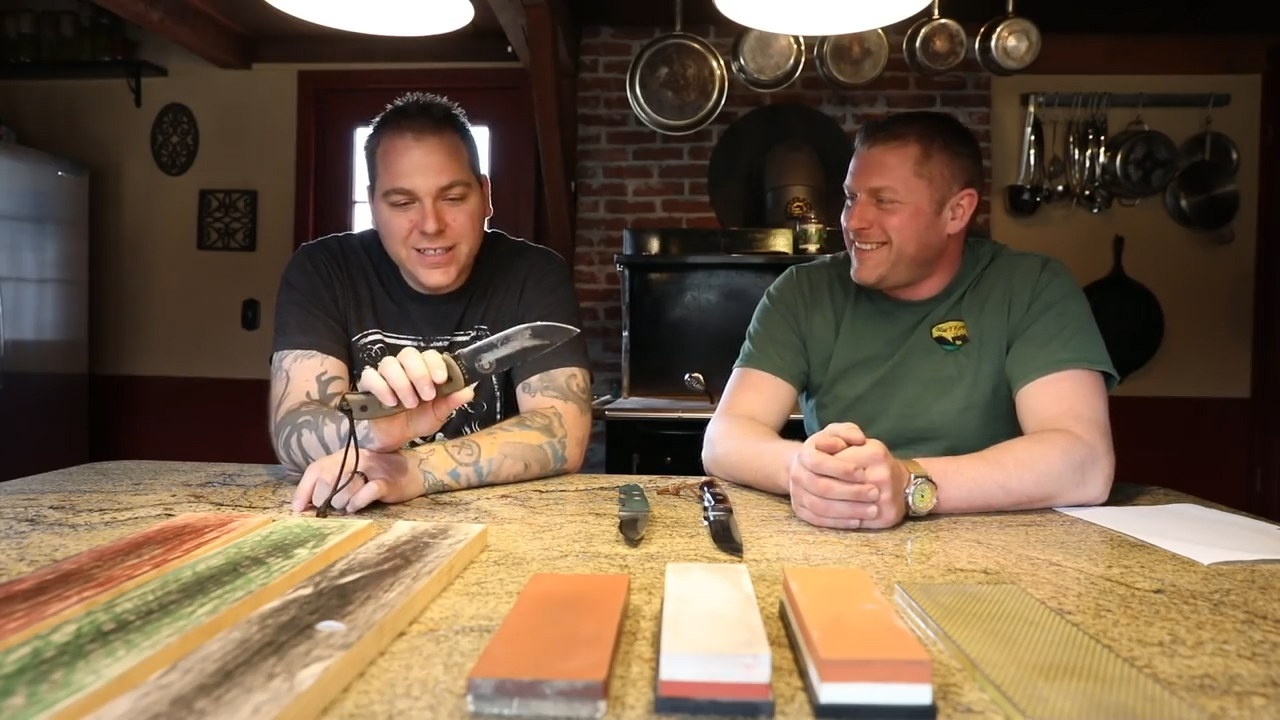knife: (376, 302, 597, 417)
